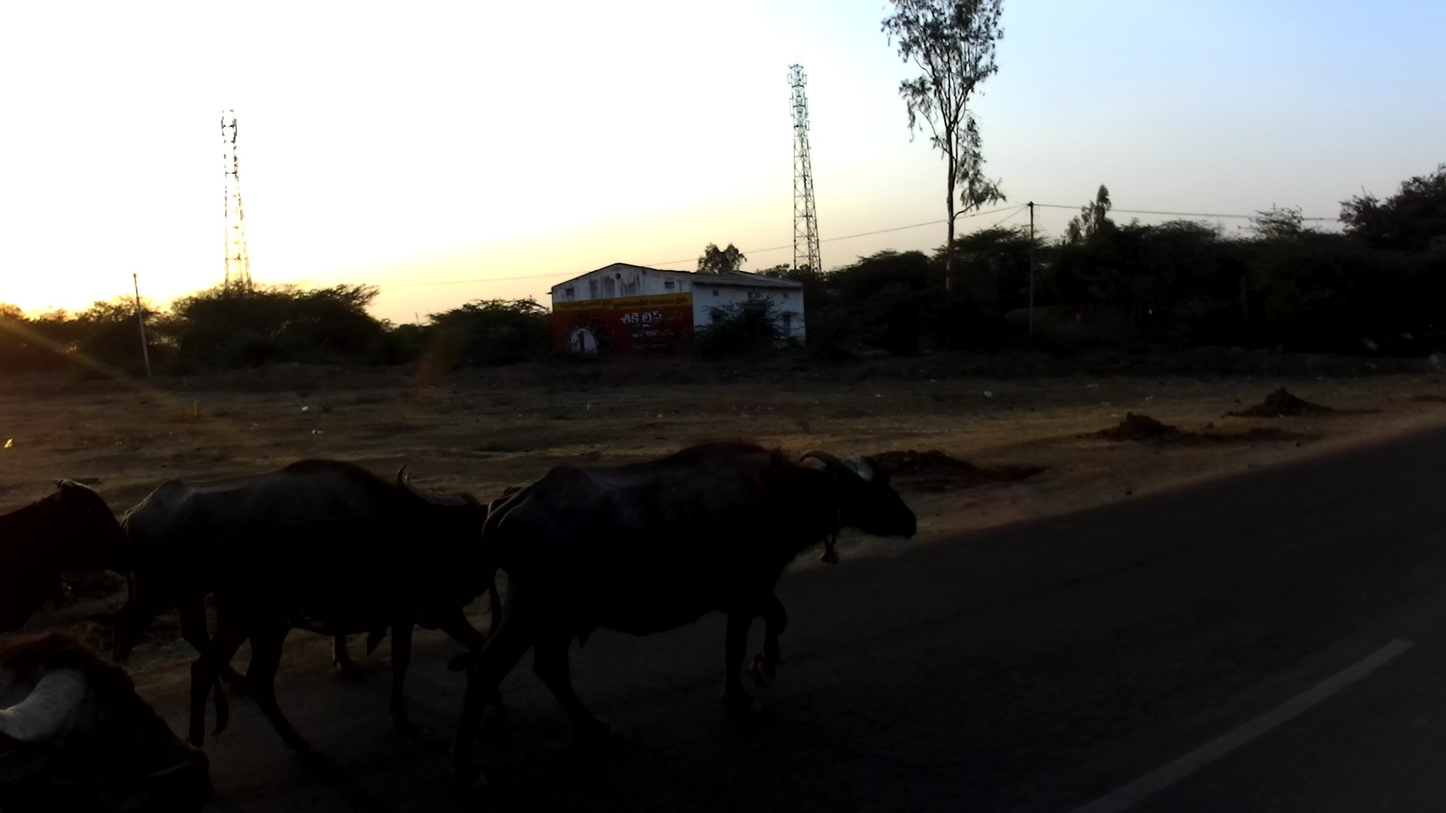animal: (469, 439, 920, 744), (171, 453, 490, 770), (99, 459, 413, 678), (1, 626, 232, 813), (1, 475, 137, 635)
